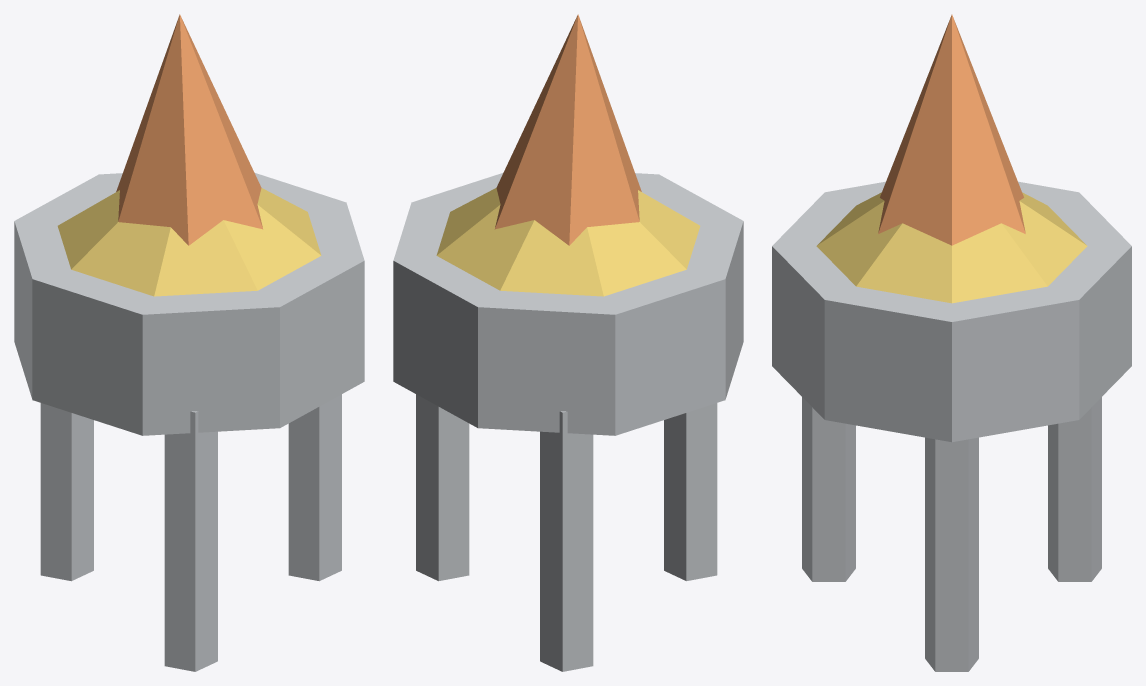
The model's file is animprop_brazier_03.glb.
3 views of the same model, side by side, from view 1: azimuth 30°, elevation 25°; view 2: azimuth 150°, elevation 25°; view 3: azimuth 270°, elevation 25° (orthographic).
Visible parts, largest first — view 1: animprop; view 2: animprop; view 3: animprop.
Boxes of the visible parts, x1=… form: animprop: x1=14, y1=14, x2=364, y2=671; animprop: x1=393, y1=14, x2=743, y2=671; animprop: x1=772, y1=14, x2=1131, y2=671.
Size of the model in its own units: 0.76 by 1.36 by 0.76.
